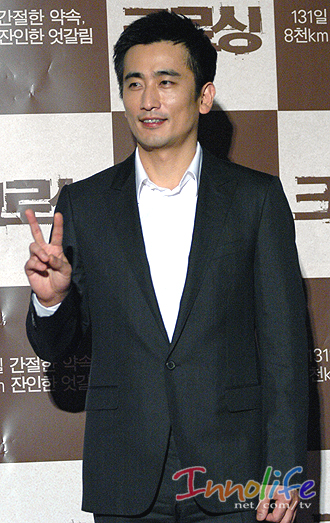face: (119, 40, 216, 150)
hand: (22, 209, 73, 301)
